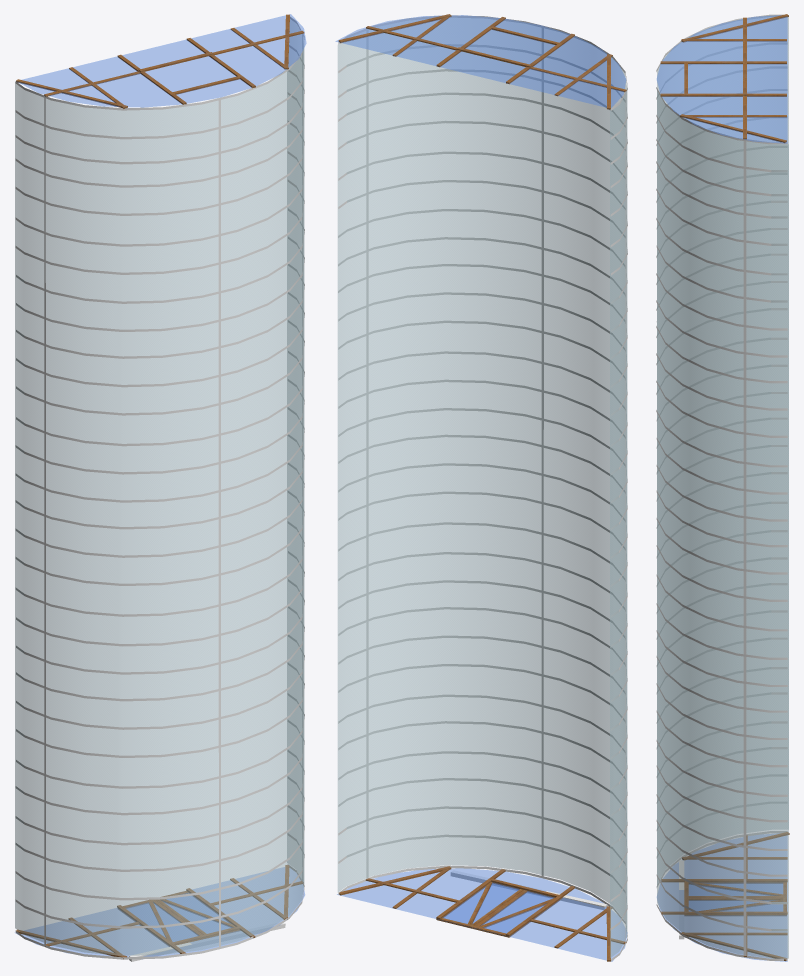
File: green_house_-_hoop_house_20x60.fbx
3 renders of one model, left to right at view 1: azimuth 30°, elevation 25°; view 2: azimuth 150°, elevation 25°; view 3: azimuth 270°, elevation 25°, orthographic. The views are drawn at different scales.
Visible parts, largest first — view 1: Object_3, Object_4, Object_5, Object_6; view 2: Object_3, Object_4, Object_5, Object_6; view 3: Object_3, Object_4, Object_5, Object_6.
Boxes of the visible parts, left/top/right/bottom form: Object_3: left=15, top=19, right=304, bottom=955; Object_4: left=15, top=16, right=304, bottom=961; Object_5: left=15, top=14, right=306, bottom=959; Object_6: left=16, top=14, right=304, bottom=959; Object_3: left=337, top=17, right=627, bottom=957; Object_4: left=338, top=15, right=627, bottom=961; Object_5: left=335, top=15, right=627, bottom=961; Object_6: left=338, top=14, right=626, bottom=961; Object_3: left=657, top=16, right=788, bottom=958; Object_4: left=656, top=14, right=787, bottom=960; Object_5: left=656, top=15, right=787, bottom=961; Object_6: left=660, top=14, right=789, bottom=960.
Size of the model in its own units: 6.24 by 18.52 by 2.7.
Materials: 5 (2 with a texture image).
